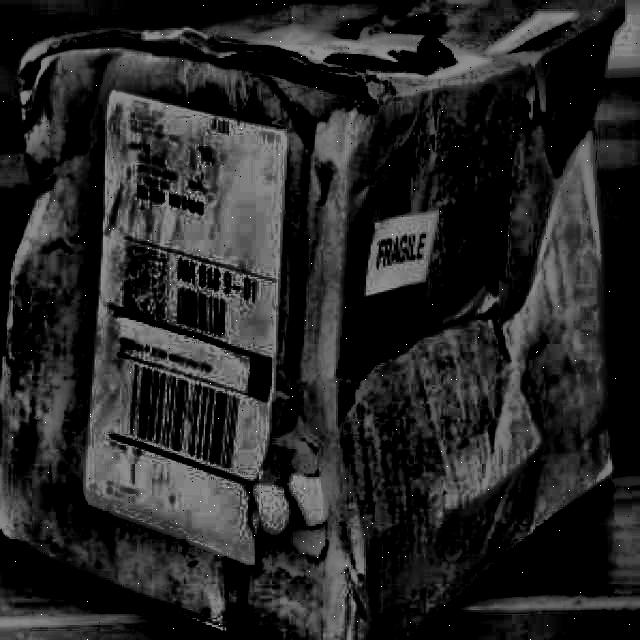box: (0, 0, 637, 639)
hole: (236, 438, 344, 580), (517, 54, 564, 137), (490, 212, 516, 334)
